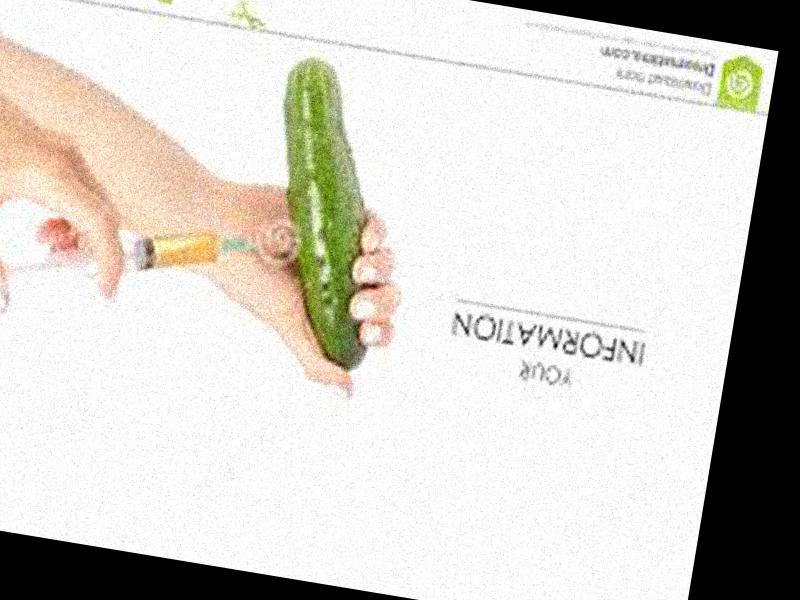Cucumber: (242, 53, 411, 372)
